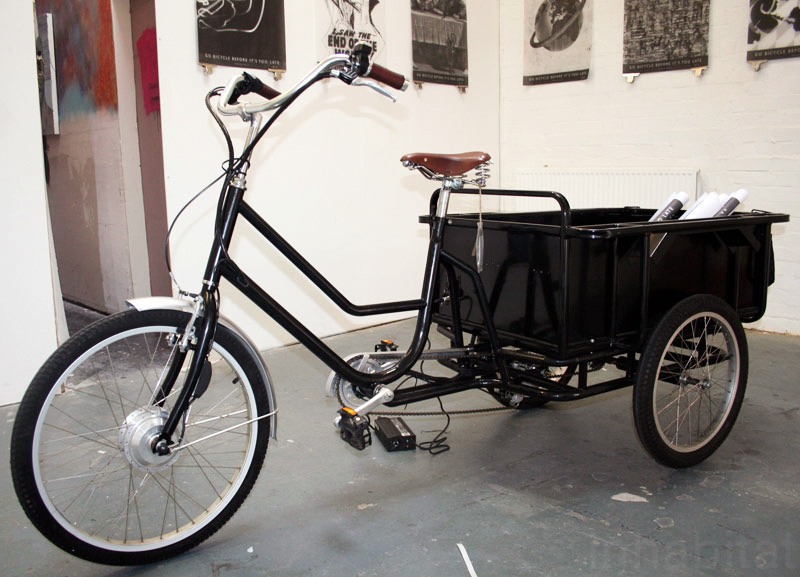handle bar: (190, 38, 446, 129)
seat: (398, 146, 500, 193)
wheel: (5, 300, 281, 569), (631, 293, 761, 475)
